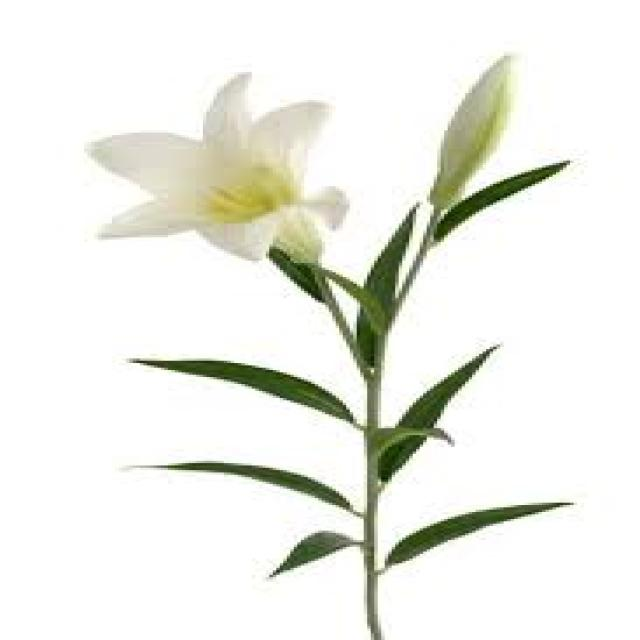lily: (51, 68, 375, 307)
